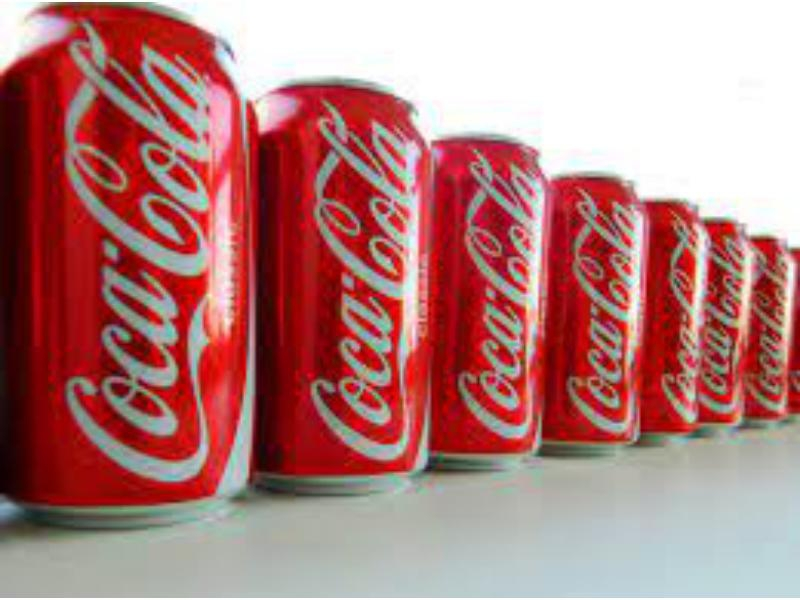can: (5, 8, 254, 527), (260, 79, 434, 504), (429, 133, 552, 475), (554, 170, 651, 469), (653, 187, 711, 471), (708, 216, 761, 443)
